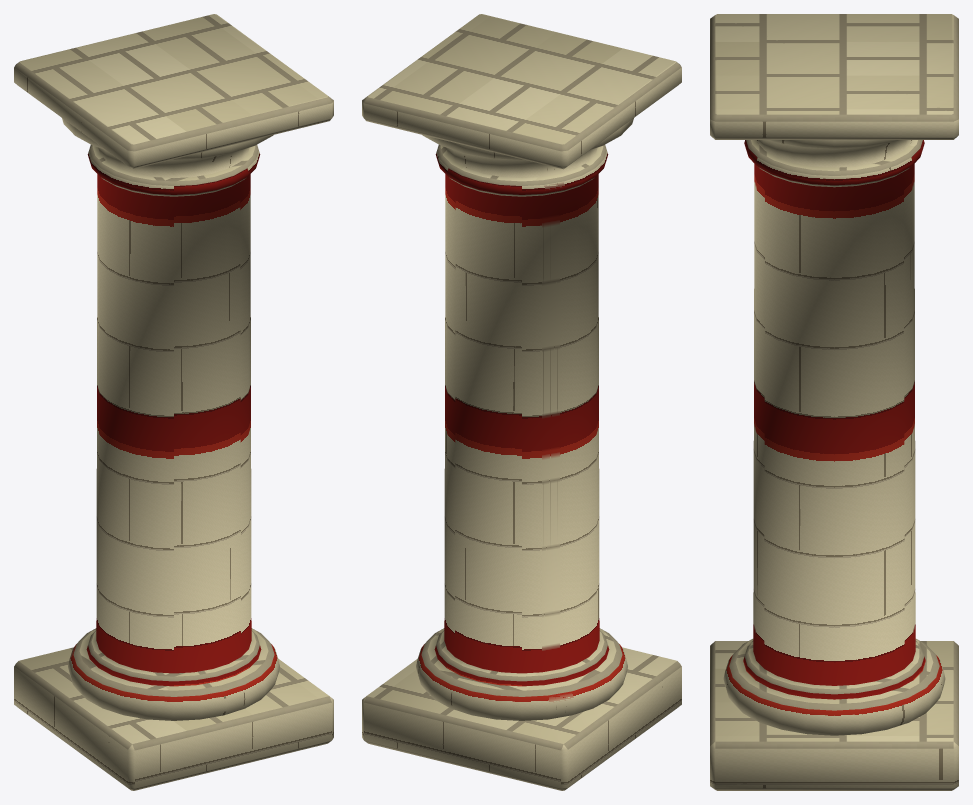
Rendered from theodosian limewall stone pillar nice.glb.
3 renders of one model, left to right at view 1: azimuth 30°, elevation 25°; view 2: azimuth 150°, elevation 25°; view 3: azimuth 270°, elevation 25°, orthographic. The views are drawn at different scales.
Parts seen in each view (by area): view 1: LimeWall_theodosian_limewall_stone_pillar_nice_column.041; view 2: LimeWall_theodosian_limewall_stone_pillar_nice_column.041; view 3: LimeWall_theodosian_limewall_stone_pillar_nice_column.041.
Part boxes in pixels (bbox=[...]): LimeWall_theodosian_limewall_stone_pillar_nice_column.041: bbox=[14, 14, 333, 790]; LimeWall_theodosian_limewall_stone_pillar_nice_column.041: bbox=[362, 14, 681, 790]; LimeWall_theodosian_limewall_stone_pillar_nice_column.041: bbox=[710, 14, 958, 790].
Size of the model in its own units: 0.9144 by 2.74 by 0.9144.
3 materials, 3 textured.
